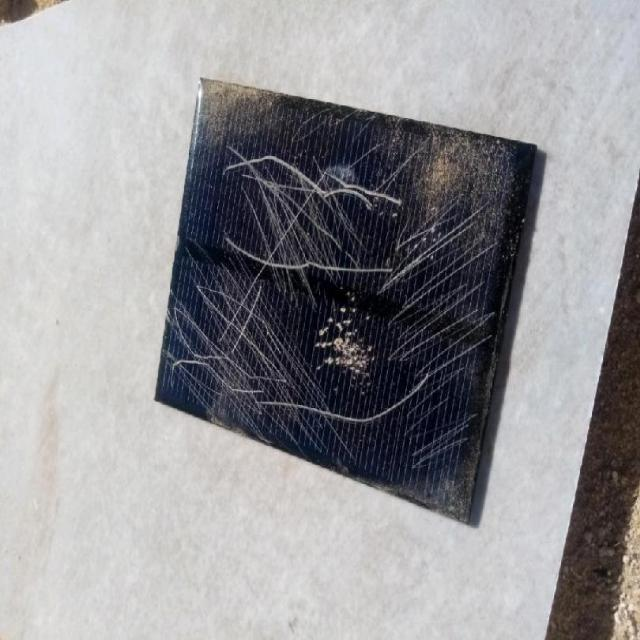faulty: (173, 92, 517, 494)
